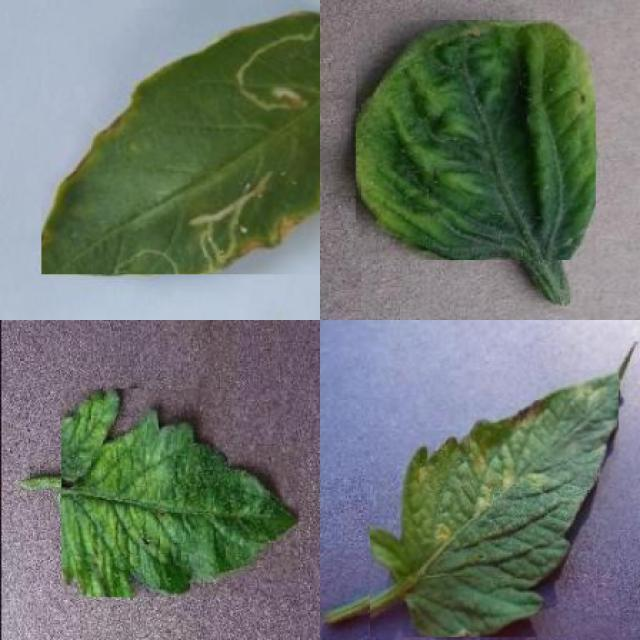Leaf Miner: (41, 9, 320, 274)
Leaf Mold: (371, 370, 619, 637)
Mosaic Virus: (62, 388, 298, 598)
Yellow Leaf Curl Virus: (356, 20, 596, 260)
